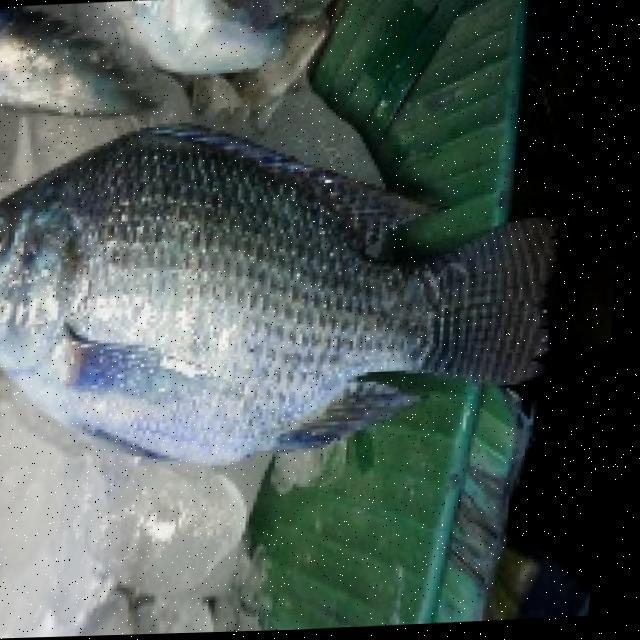Fresh: (0, 87, 426, 488)
